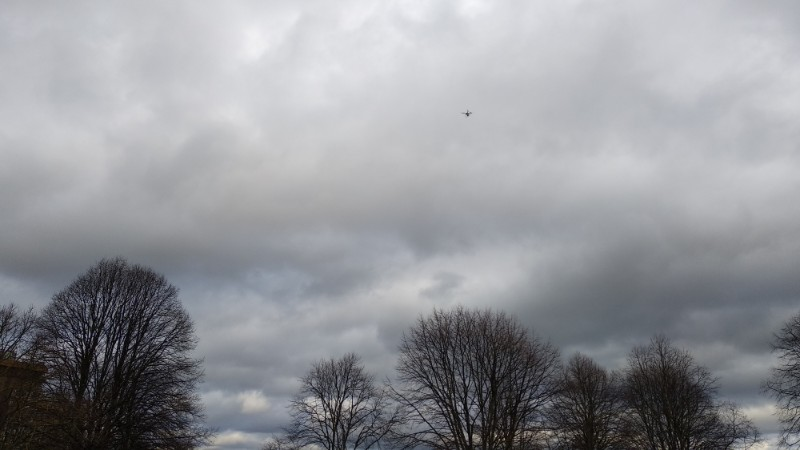drone: (461, 109, 472, 116)
